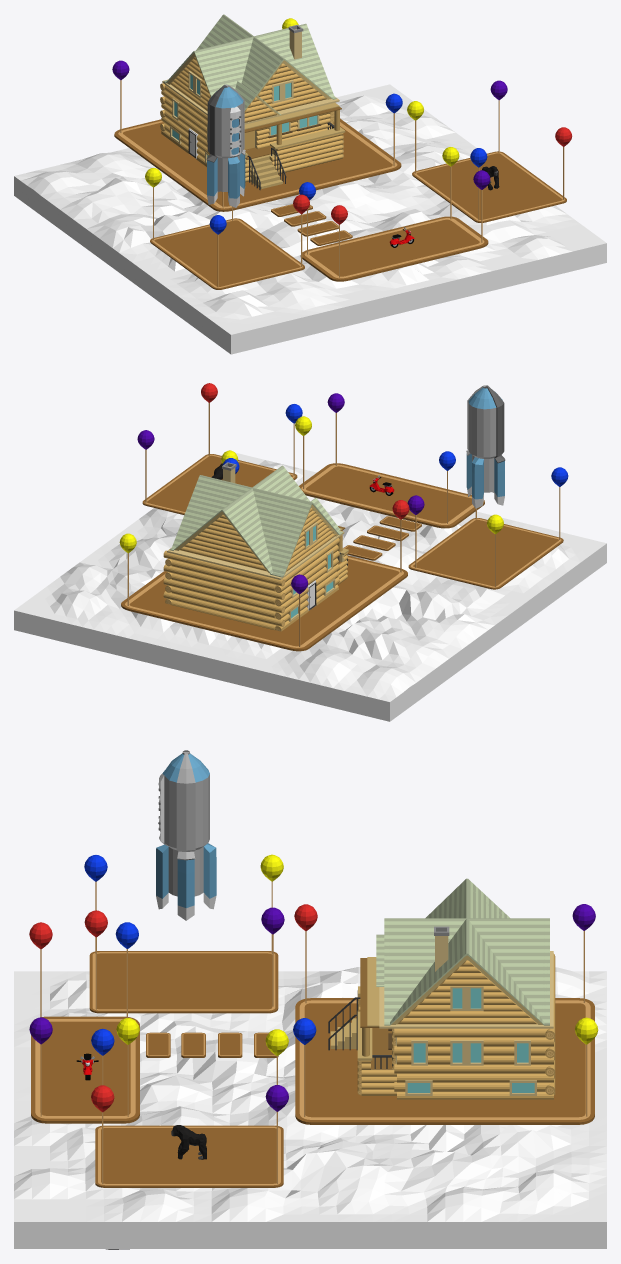
3 views of the same model, one above another, from view 1: azimuth 30°, elevation 25°; view 2: azimuth 150°, elevation 25°; view 3: azimuth 270°, elevation 25° (orthographic). The views are drawn at different scales.
Parts seen in each view (by area): view 1: Cube.013, Cube.1516, OBJRANDOM_ROCKETSHIP; view 2: Cube.013, Cube.1516, OBJRANDOM_ROCKETSHIP; view 3: Cube.013, Cube.1516, OBJRANDOM_ROCKETSHIP, ANIMAL_GORILA.
Part boxes in pixels (bbox=[...]): Cube.013: bbox=[14, 18, 606, 354]; Cube.1516: bbox=[160, 14, 345, 190]; OBJRANDOM_ROCKETSHIP: bbox=[206, 84, 245, 207]; Cube.013: bbox=[14, 383, 606, 721]; Cube.1516: bbox=[163, 462, 348, 631]; OBJRANDOM_ROCKETSHIP: bbox=[466, 385, 505, 508]; Cube.013: bbox=[14, 854, 606, 1248]; Cube.1516: bbox=[328, 878, 555, 1099]; OBJRANDOM_ROCKETSHIP: bbox=[156, 750, 216, 920]; ANIMAL_GORILA: bbox=[171, 1125, 206, 1159].
Size of the model in its own units: 4000 by 2175 by 4000.
36 materials, 2 textured.
